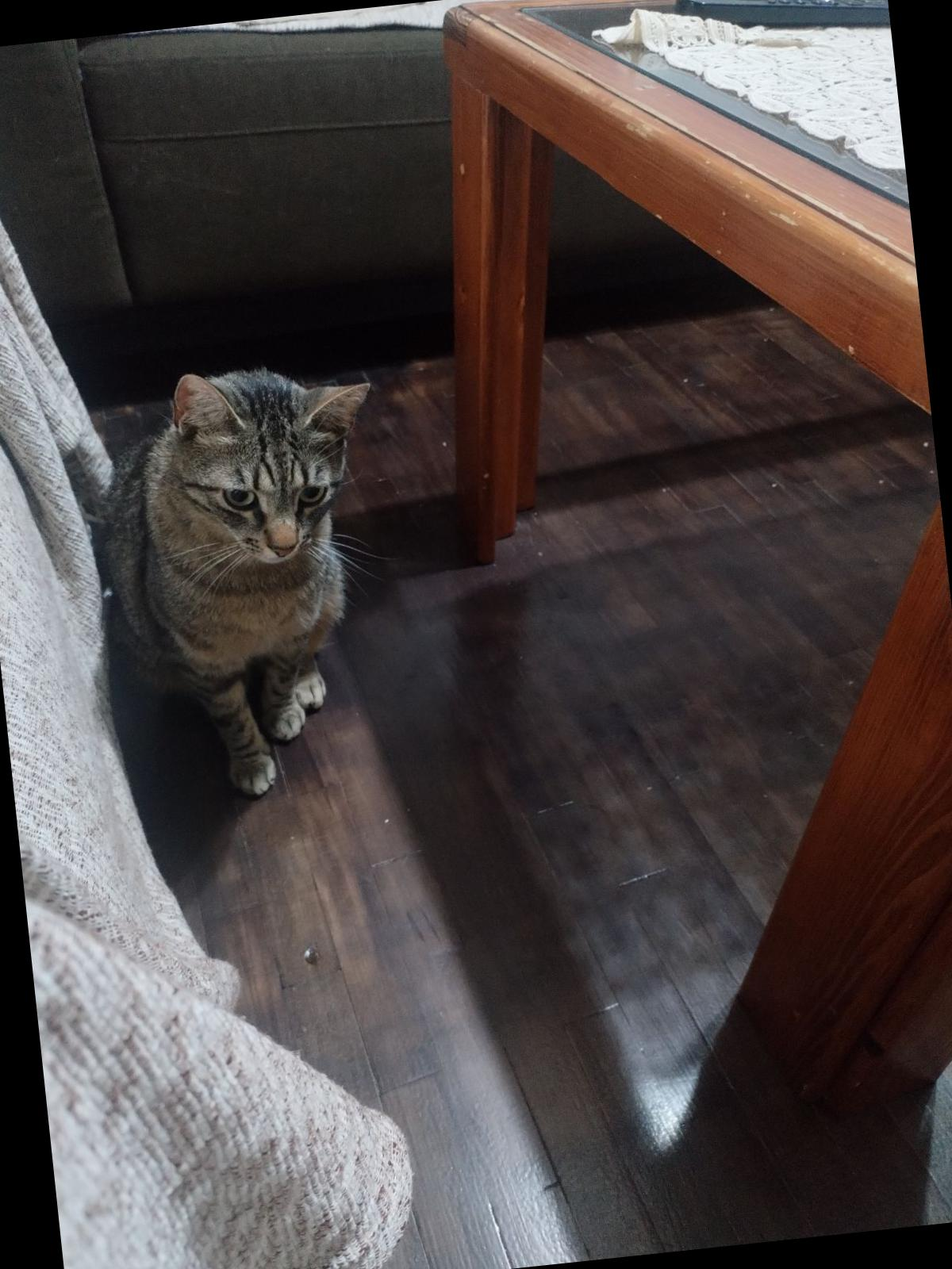macka: (59, 352, 423, 815)
